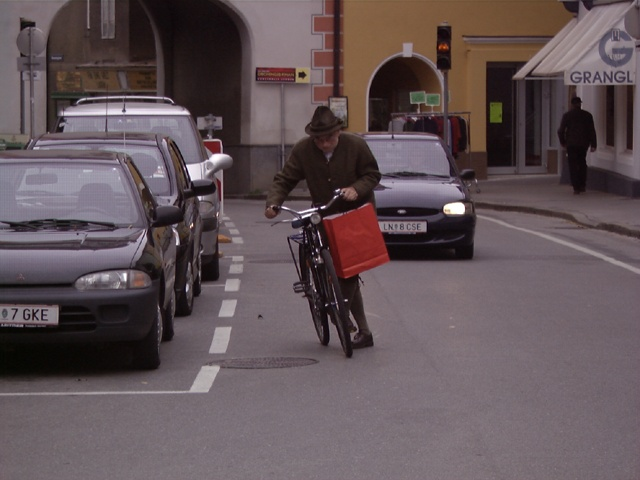person: (264, 107, 379, 352), (558, 94, 599, 196)
